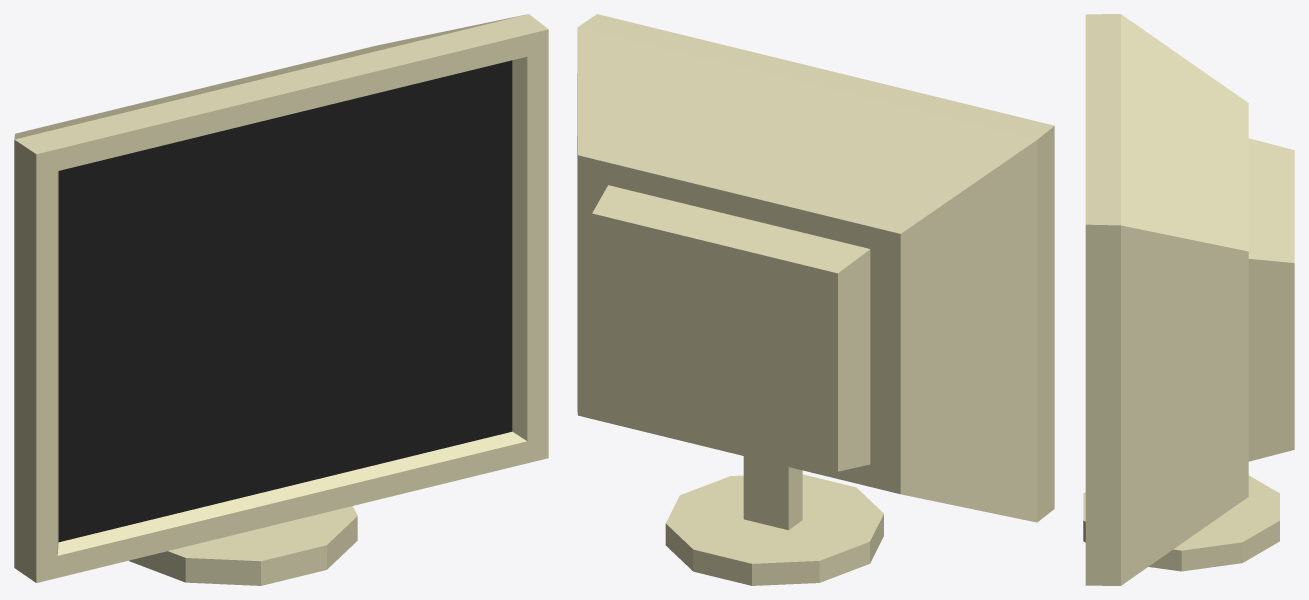
File: Computer_1.fbx
3 views of the same model, side by side, from view 1: azimuth 30°, elevation 25°; view 2: azimuth 150°, elevation 25°; view 3: azimuth 270°, elevation 25° (orthographic). The views are drawn at different scales.
Visible parts, largest first — view 1: polySurface1520; view 2: polySurface1520; view 3: polySurface1520.
Part boxes in pixels (x1=…): polySurface1520: x1=14, y1=14, x2=548, y2=585; polySurface1520: x1=577, y1=14, x2=1054, y2=585; polySurface1520: x1=1083, y1=14, x2=1294, y2=585.
Bounding box in the file's own units: 0.6532 × 0.5882 × 0.2757.
Materials: 1 (1 with a texture image).
